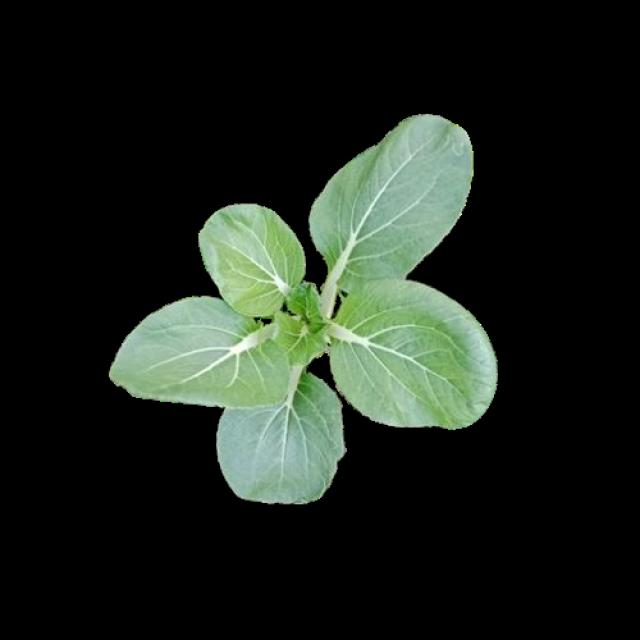healthy: (109, 112, 495, 500)
not-mature: (111, 115, 498, 503)
